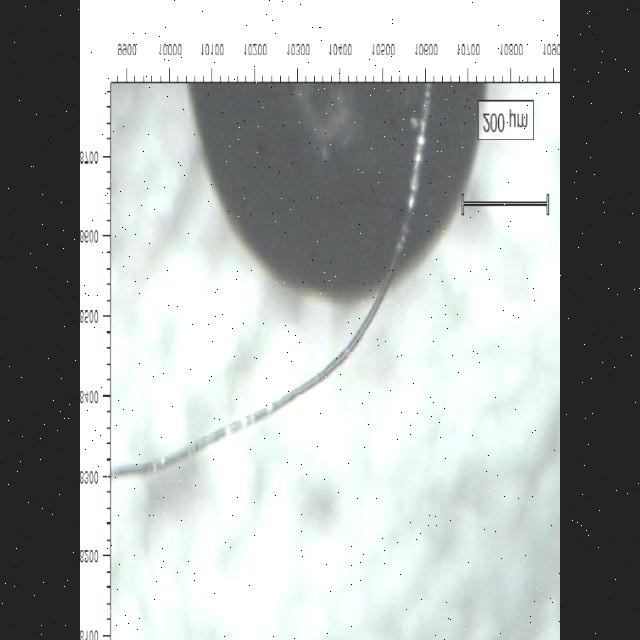Fibre: (112, 85, 436, 489)
